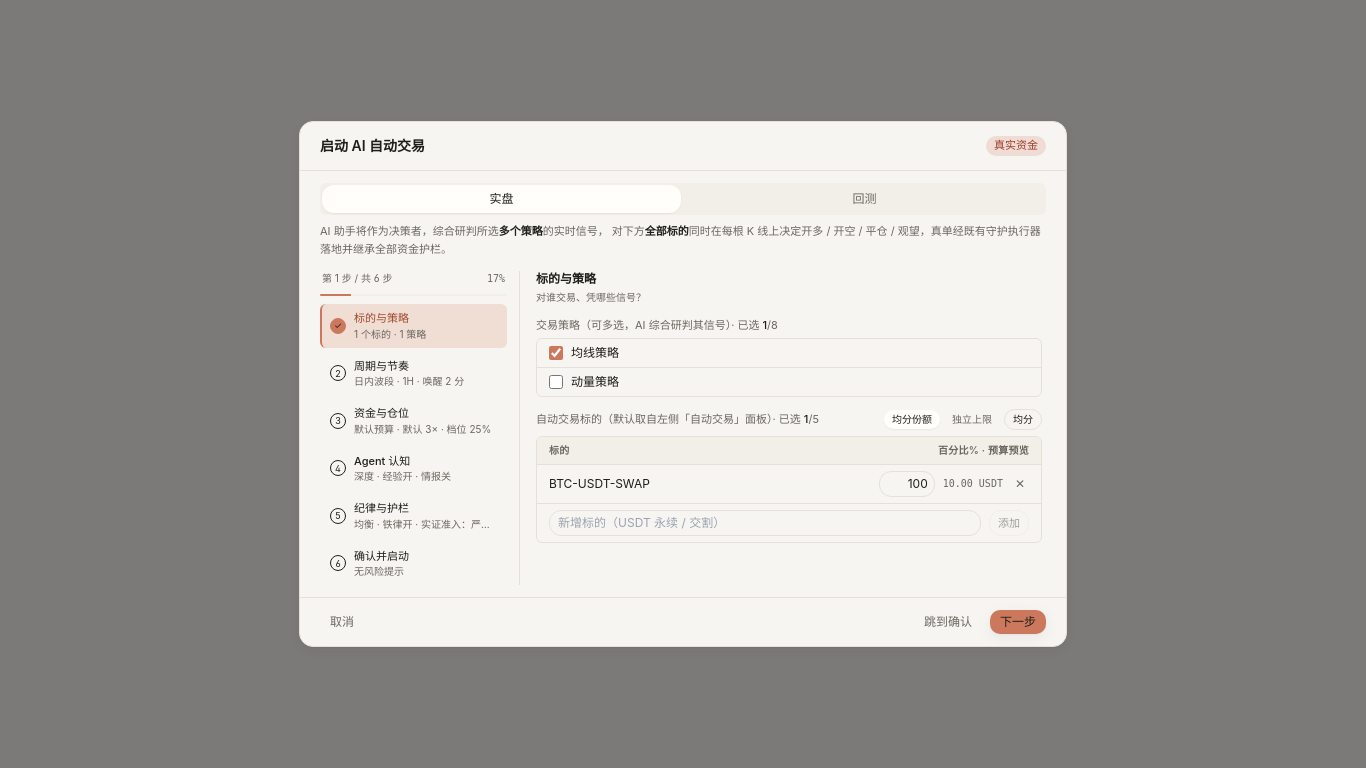
Test case: AiTradeLaunchModal › 运维总闸关闭时如实说明，而不是把整个分区藏起来
The image size is (1366, 768).
Check: the text "均线策略" is shown, box [571,345,619,361]
Click the tab "纪律与护栏" at (414,516), box [320,494,507,538]
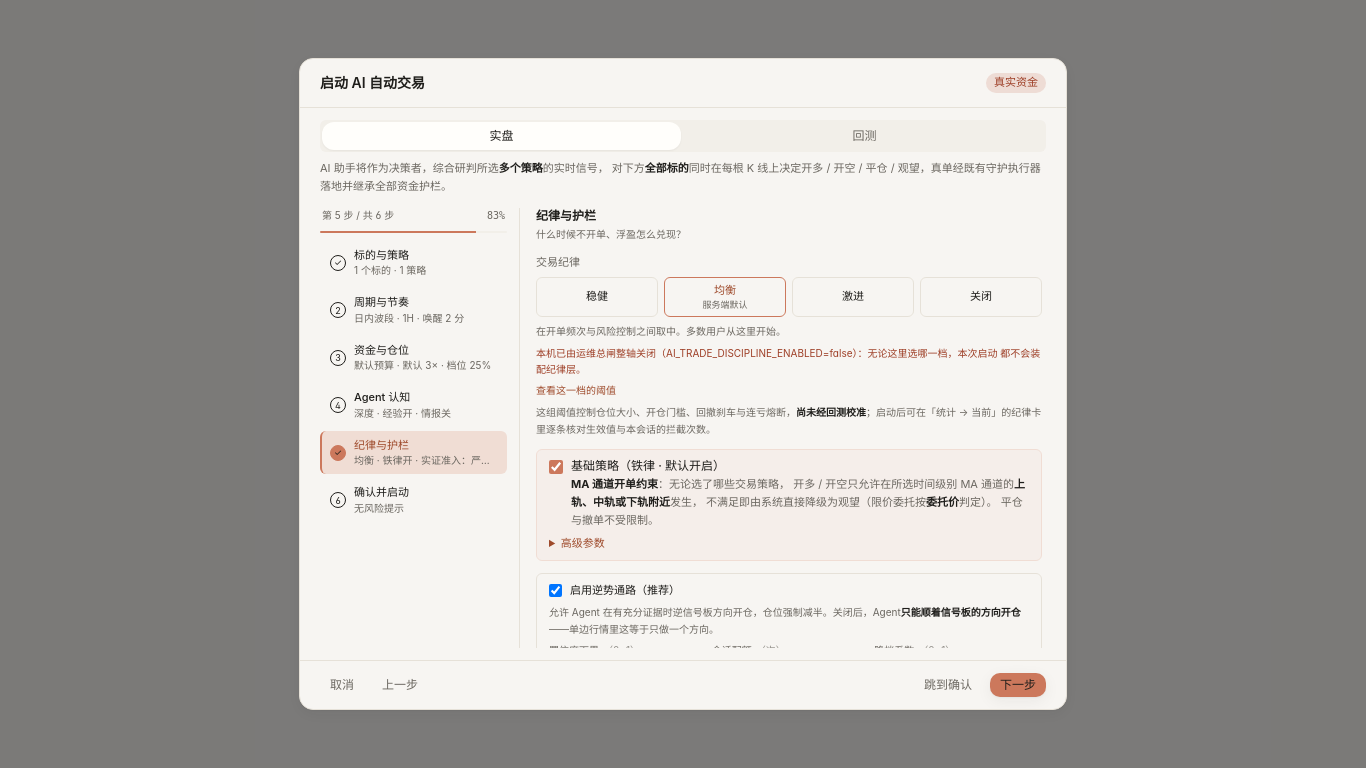
Check: the text "本机已由运维总闸整轴关闭" is shown, box [536,347,1040,375]
